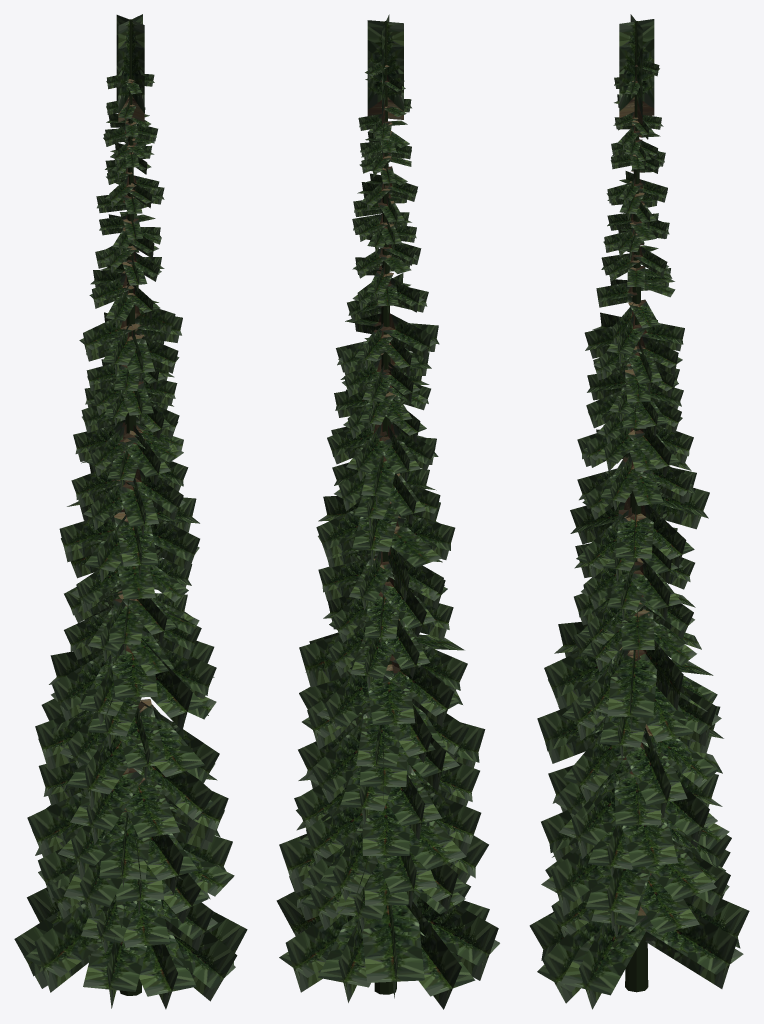
Rendered from category_mesh_tree_1_v1.glb.
The picture shows the model from 3 angles, left to right: view 1: azimuth 30°, elevation 25°; view 2: azimuth 150°, elevation 25°; view 3: azimuth 270°, elevation 25°; orthographic projection.
Parts seen in each view (by area): view 1: category_mesh_tree_1_v1; view 2: category_mesh_tree_1_v1; view 3: category_mesh_tree_1_v1.
Part boxes in pixels (x1,y1,x2,y2): category_mesh_tree_1_v1: (14, 14, 247, 1009); category_mesh_tree_1_v1: (276, 14, 499, 1009); category_mesh_tree_1_v1: (529, 14, 749, 1009).
Bounding box in the file's own units: 3.9 × 17.63 × 3.64.
Materials: 1 (1 with a texture image).
